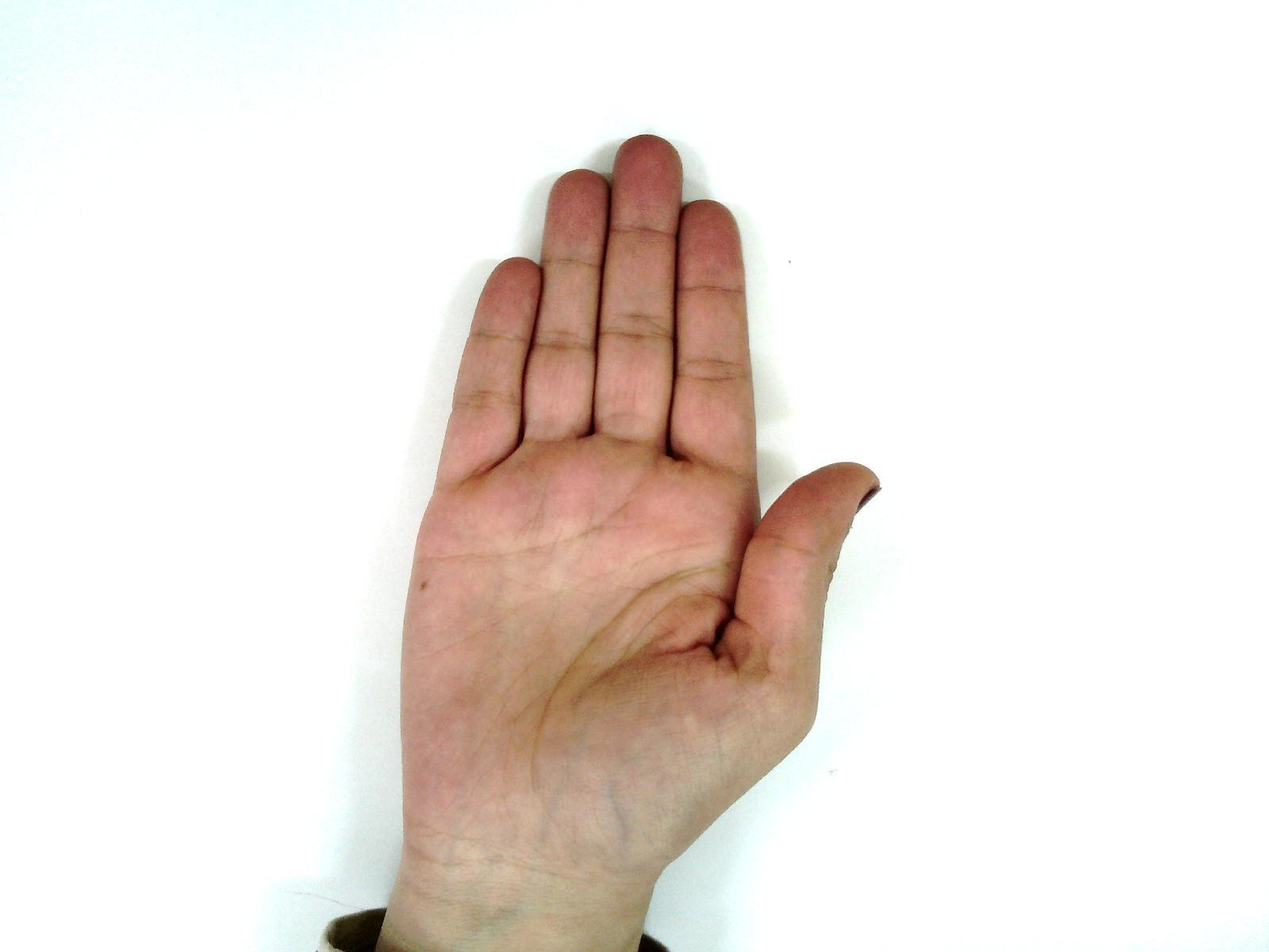open_palm: (365, 132, 885, 889)
